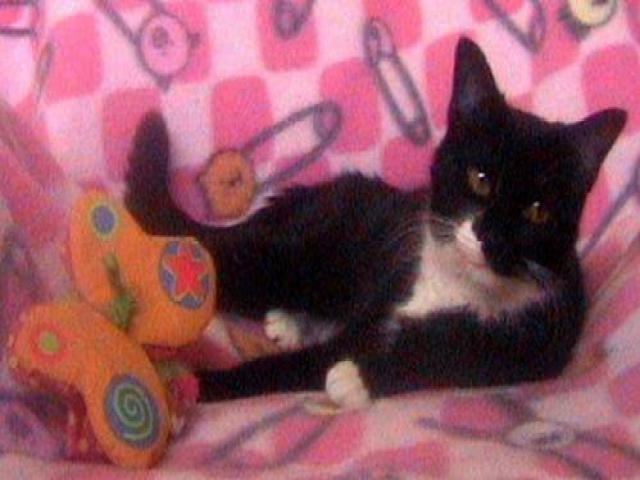cat: (122, 40, 616, 408)
